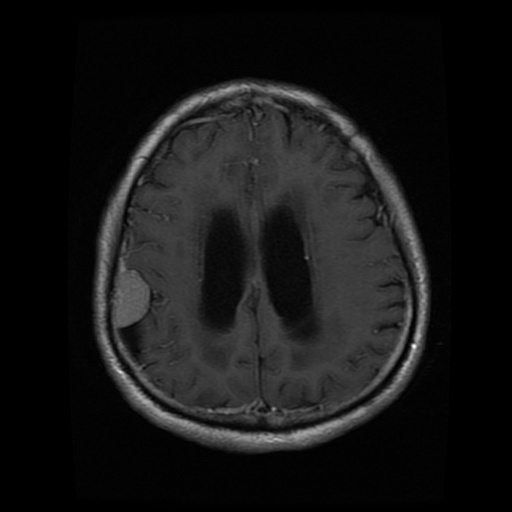meningioma: (111, 265, 147, 325)
